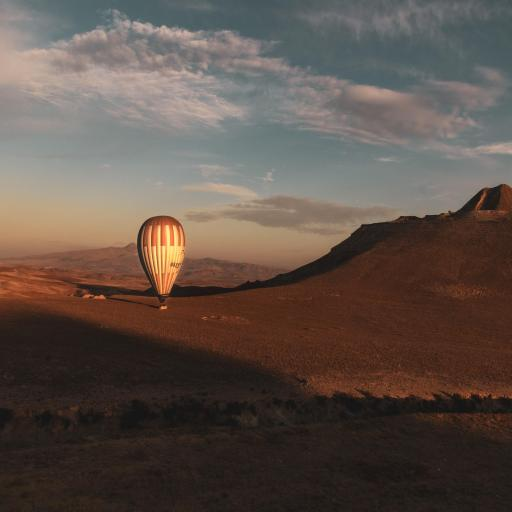hot air ballon: (137, 215, 186, 309)
